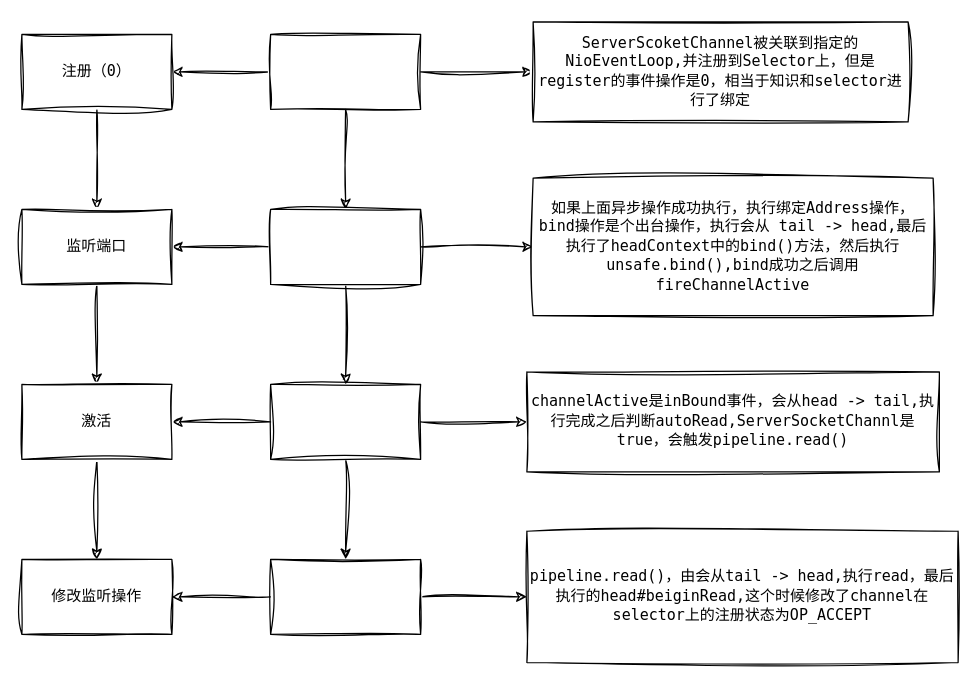
Image size: 980x685. Some labels were removed from this diagram. The shapes that lost their labels are listed below. From the top down, each one's centre as x and y in pixels, then its label:
(345,71): initAndRegister
(345,246): bind()
(345,421): channelActive AutoRead
(345,596): head#beginRead
